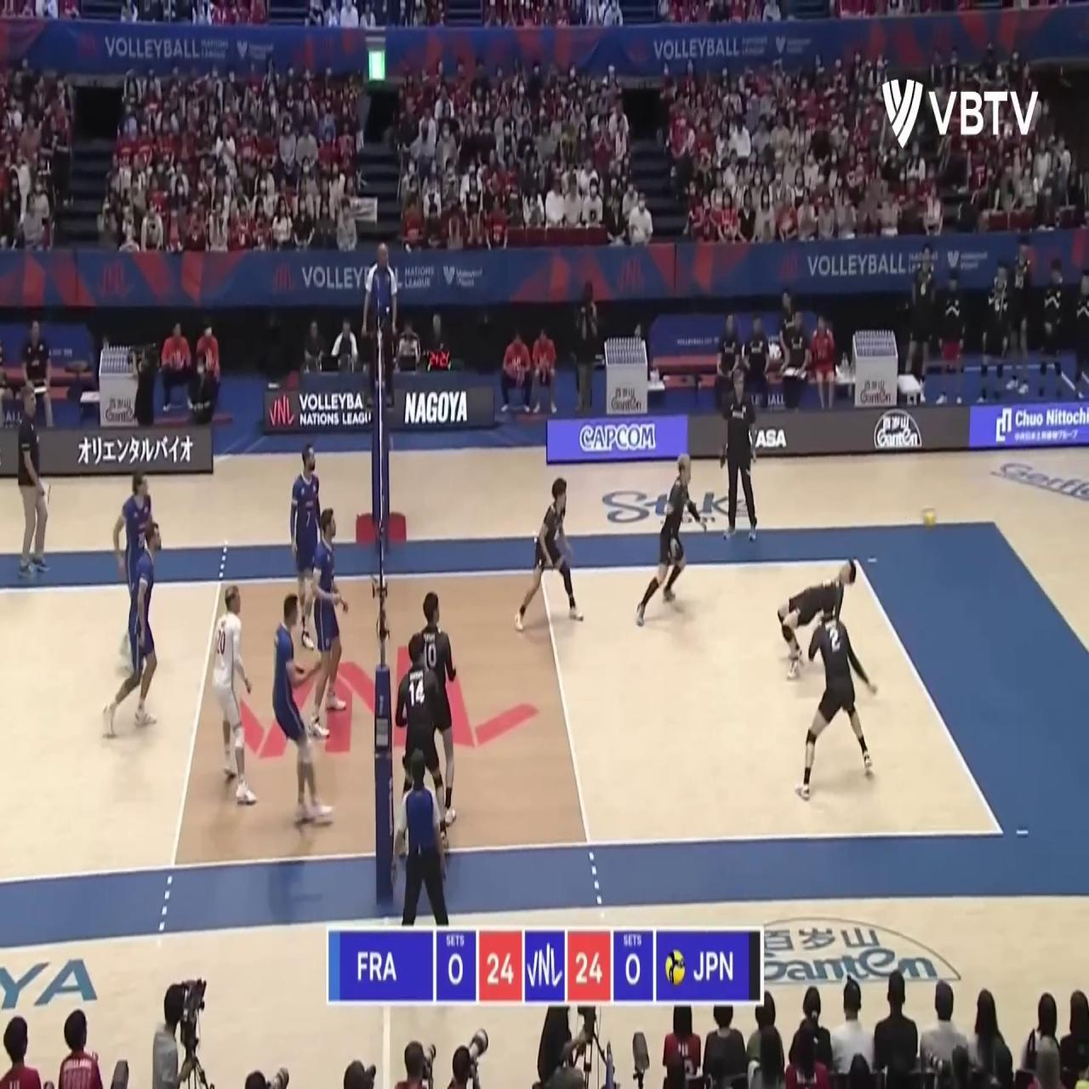ball: (921, 502, 938, 529)
